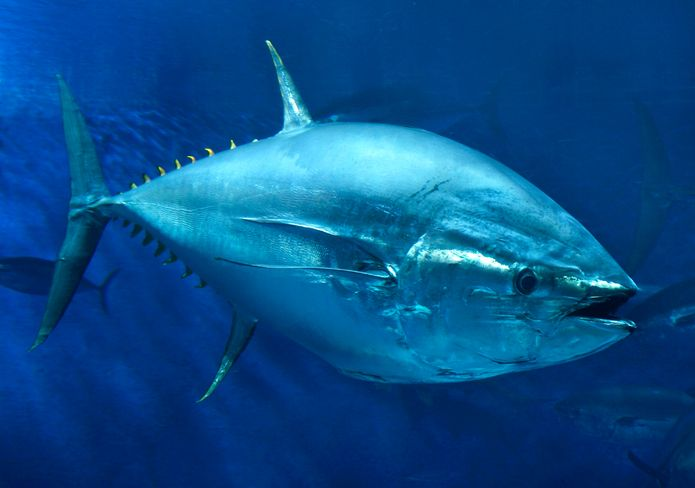Bluefina Tuna: (45, 48, 646, 418)
